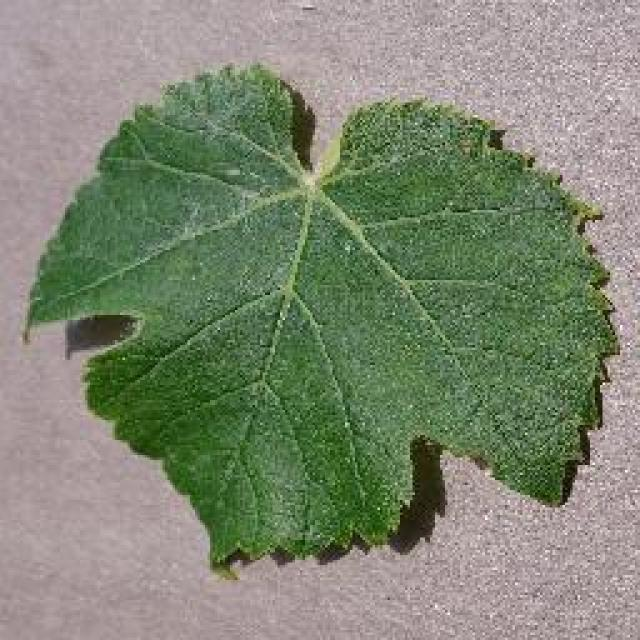Grape___healthy: (13, 55, 626, 579)
